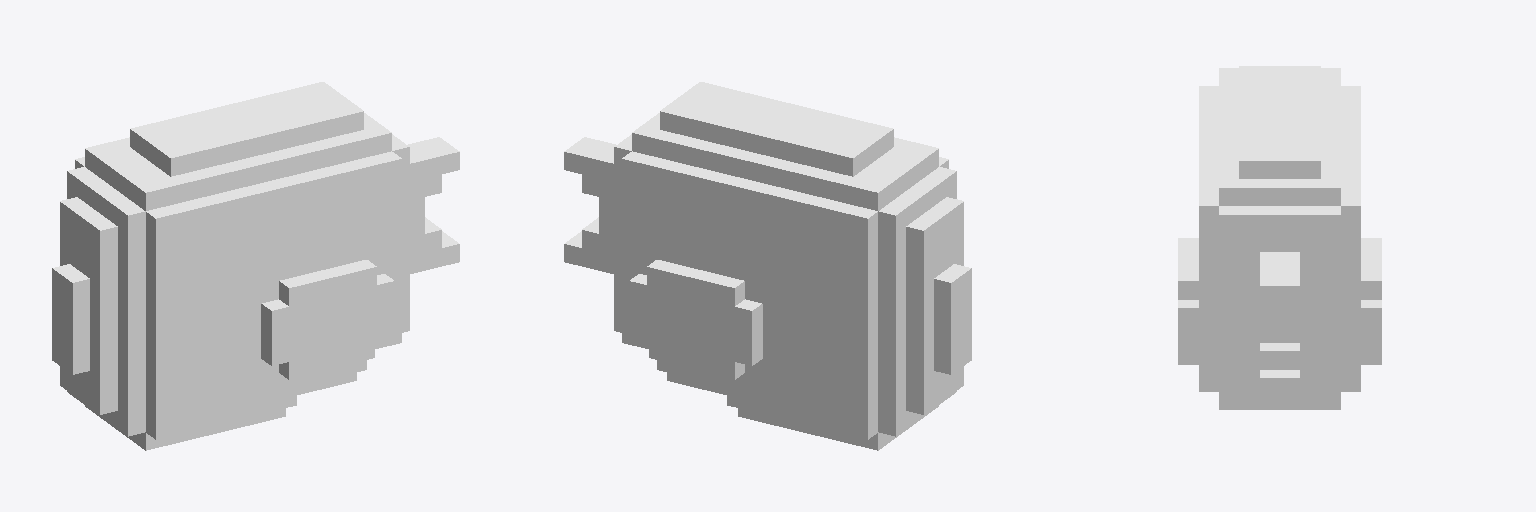
Rendered from obj.friedFish.obj.
The picture shows the model from 3 angles: view 1: azimuth 30°, elevation 25°; view 2: azimuth 150°, elevation 25°; view 3: azimuth 270°, elevation 25°; orthographic projection.
Parts seen in each view (by area): view 1: object 1; view 2: object 1; view 3: object 1.
Part boxes in pixels (left/top/right/bottom): object 1: left=52, top=82, right=459, bottom=450; object 1: left=564, top=82, right=971, bottom=450; object 1: left=1178, top=66, right=1381, bottom=409.
Size of the model in its own units: 2.2 by 1.5 by 1.